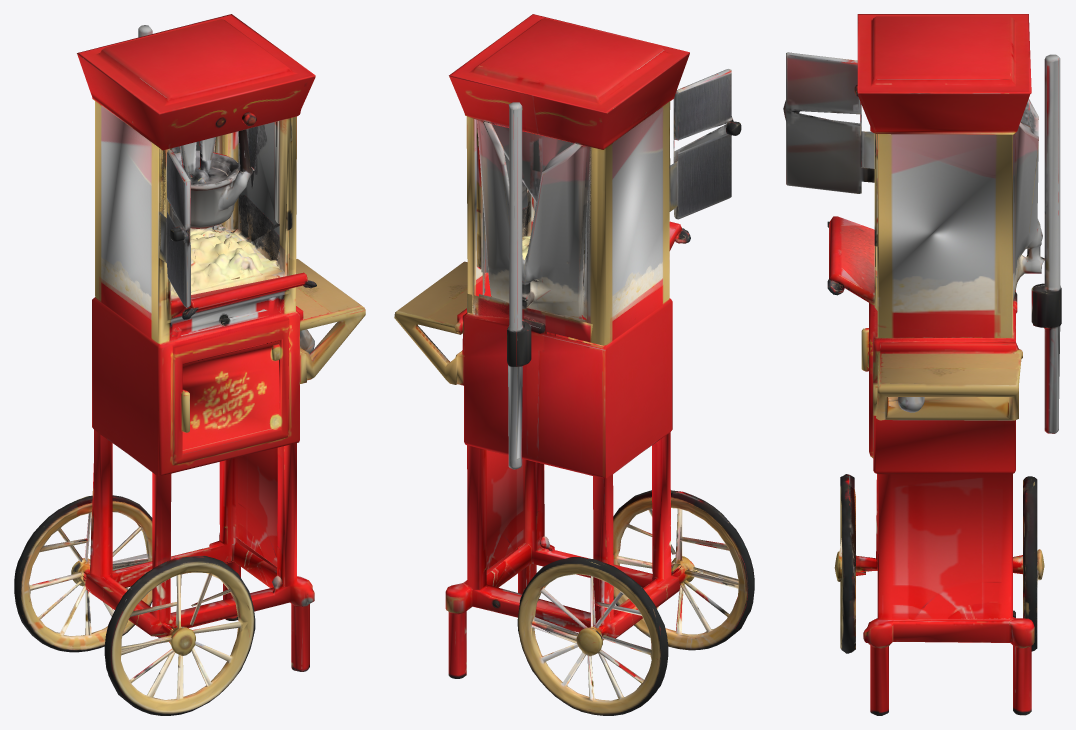
File: popcorn_cart_0126181145_texture.glb
The picture shows the model from 3 angles, left to right: view 1: azimuth 30°, elevation 25°; view 2: azimuth 150°, elevation 25°; view 3: azimuth 270°, elevation 25°; orthographic projection. The views are drawn at different scales.
Visible parts, largest first — view 1: Mesh_0; view 2: Mesh_0; view 3: Mesh_0.
Boxes of the visible parts, x1,y1,x2,y2 form: Mesh_0: (14, 14, 365, 715); Mesh_0: (394, 14, 754, 715); Mesh_0: (783, 14, 1061, 715).
Size of the model in its own units: 0.7291 by 1.52 by 0.6102.
1 material, 1 textured.
